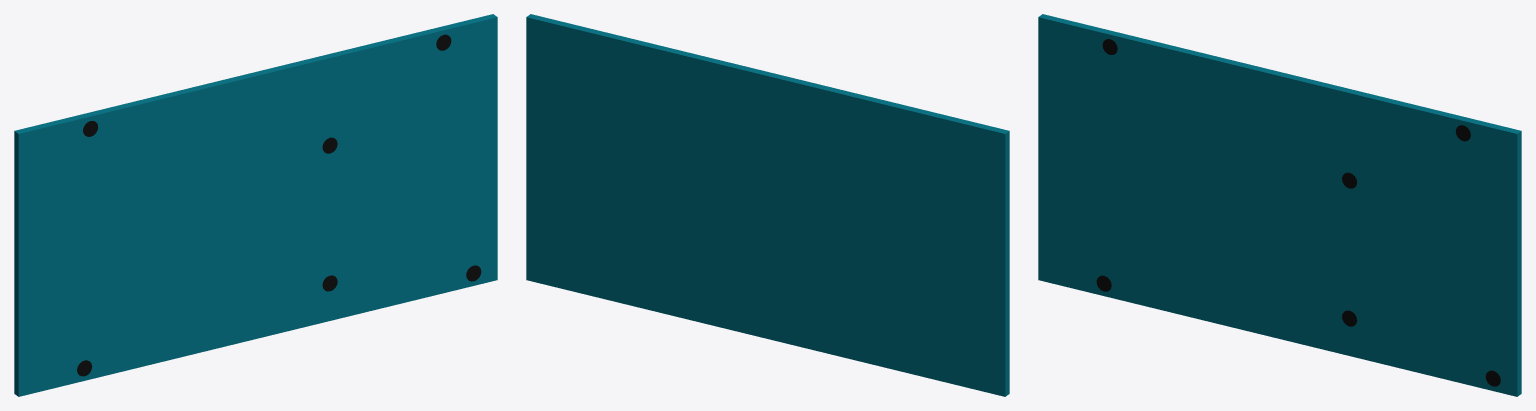
File: mod-due.glb
The picture shows the model from 3 angles, left to right: view 1: azimuth 30°, elevation 25°; view 2: azimuth 150°, elevation 25°; view 3: azimuth 330°, elevation 25°; orthographic projection.
Visible parts, largest first — view 1: PCB-ARDUINO; view 2: PCB-ARDUINO; view 3: PCB-ARDUINO.
Part boxes in pixels (x1,y1,x2,y2): PCB-ARDUINO: (14,14,497,396); PCB-ARDUINO: (526,14,1009,396); PCB-ARDUINO: (1038,14,1521,396).
Bounding box in the file's own units: 102 × 53.3 × 1.65.
